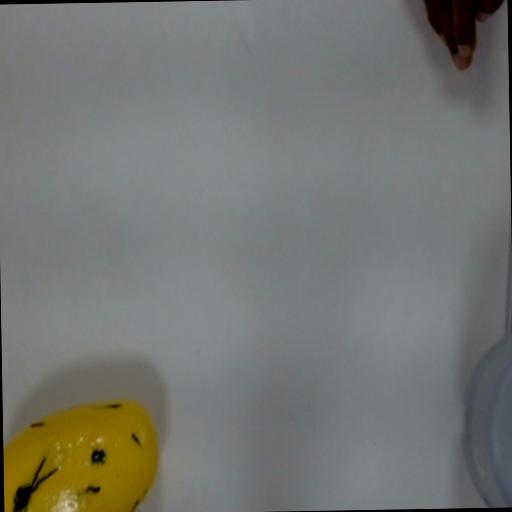Defective: (3, 398, 159, 512)
